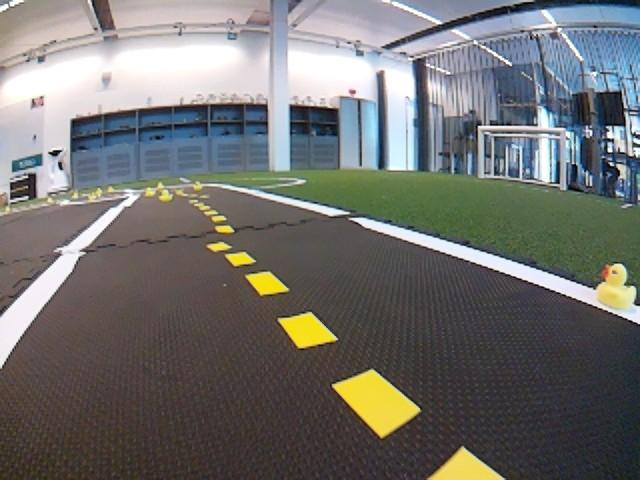Duckies: (596, 263, 636, 310), (159, 190, 173, 202), (144, 188, 155, 196), (193, 182, 204, 190), (88, 192, 97, 200), (157, 182, 165, 189), (46, 197, 54, 203), (107, 186, 115, 192), (96, 188, 103, 194), (72, 193, 79, 198), (4, 206, 10, 211)
